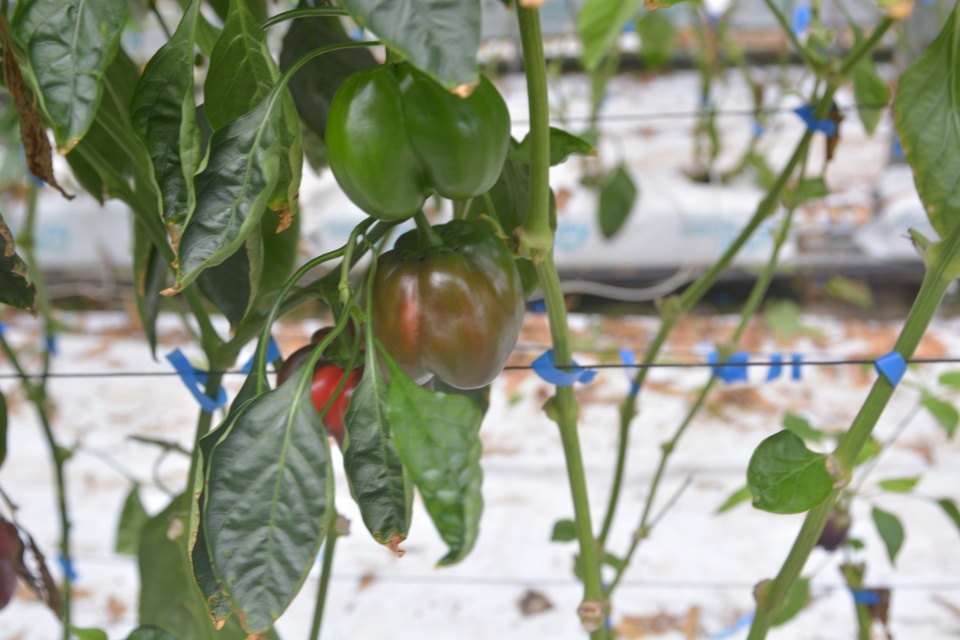fruit: (322, 58, 514, 223), (357, 216, 527, 391), (275, 323, 365, 436)
pedicle: (400, 230, 470, 260)
